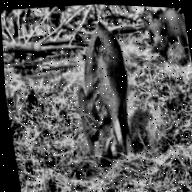boar: (62, 10, 154, 167), (130, 6, 190, 63)
